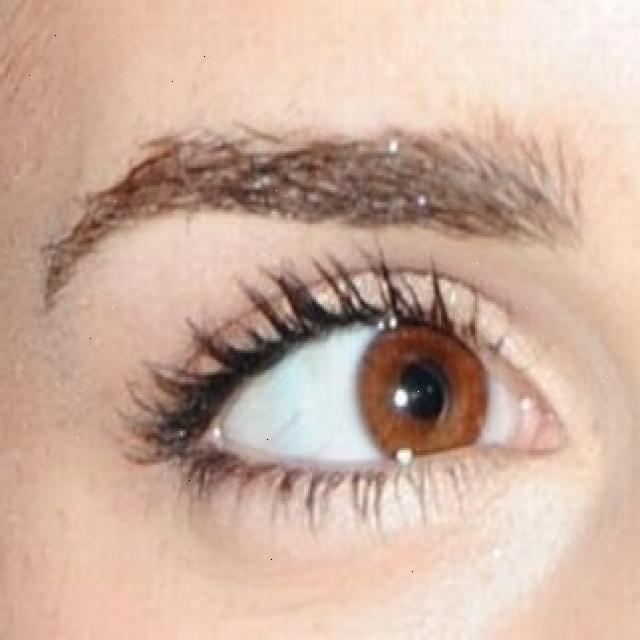Normal: (352, 315, 487, 474)
